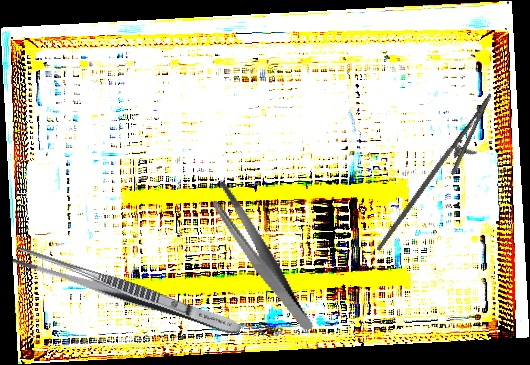Dressing Forceps: (10, 244, 245, 340), (207, 169, 314, 346)
Needle Holder: (375, 81, 506, 270)
